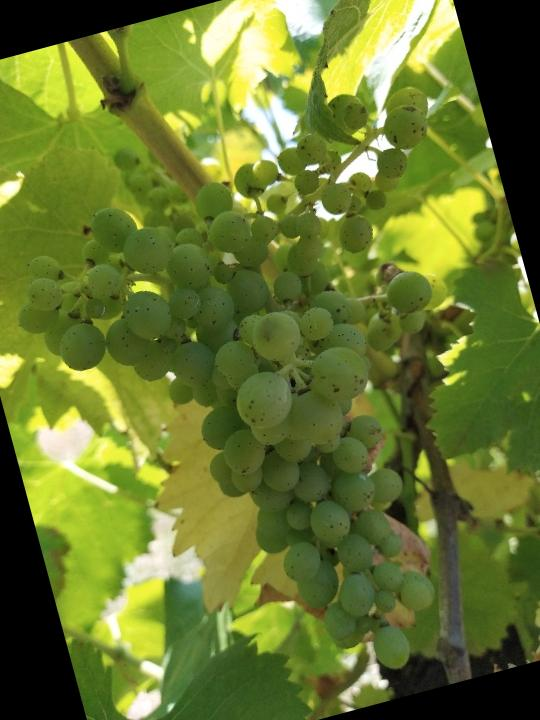grape: (0, 72, 540, 720)
